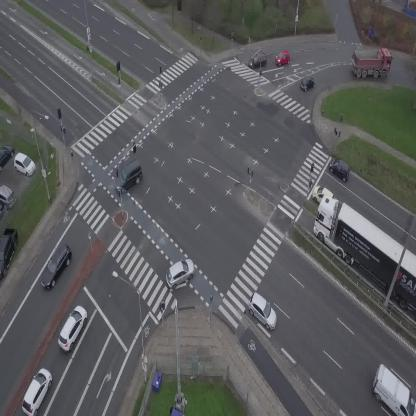car: (35, 242, 78, 292), (53, 303, 93, 353), (17, 366, 57, 416), (242, 291, 284, 332), (108, 159, 148, 196), (160, 255, 200, 291), (326, 155, 354, 182), (310, 182, 335, 205), (297, 74, 317, 93), (247, 52, 268, 68), (273, 49, 292, 66)
lorry: (353, 47, 392, 79)
